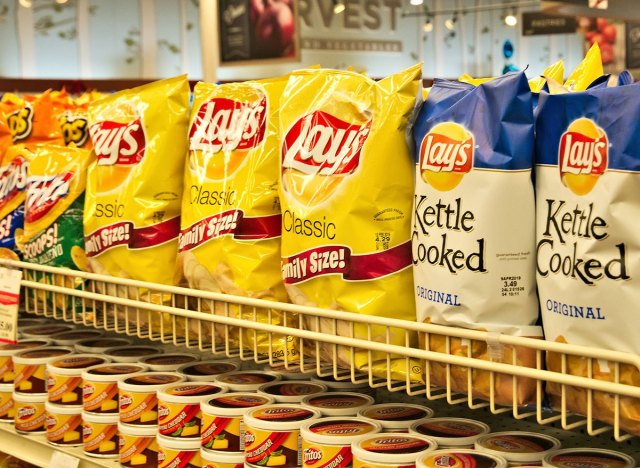chip: (415, 76, 533, 387), (285, 74, 412, 362), (534, 91, 640, 411), (189, 75, 284, 353), (86, 100, 178, 328), (17, 98, 93, 294)
